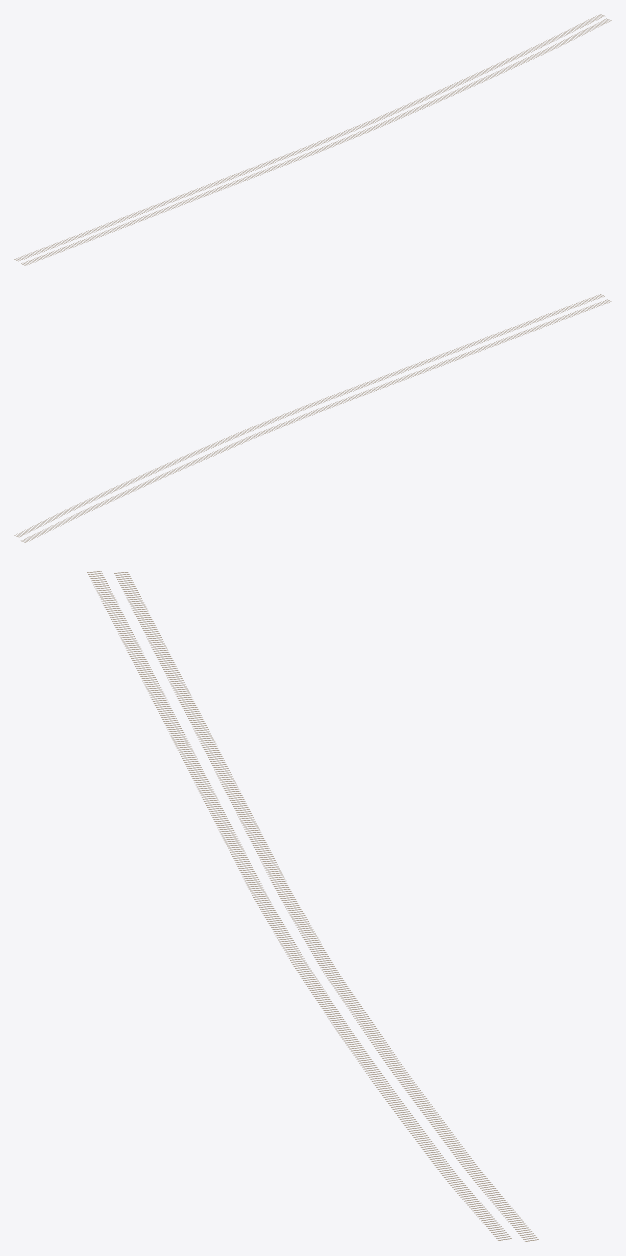
The model's file is c_1626_17835_rail_sleeper.glb.
The picture shows the model from 3 angles, top to bottom: view 1: azimuth 30°, elevation 25°; view 2: azimuth 210°, elevation 25°; view 3: azimuth 270°, elevation 25°; orthographic projection. The views are drawn at different scales.
Visible parts, largest first — view 1: geometry_0; view 2: geometry_0; view 3: geometry_0.
Boxes of the visible parts, x1,y1,x2,y2 form: geometry_0: (14, 14, 611, 265); geometry_0: (14, 294, 611, 542); geometry_0: (87, 571, 538, 1241).
Bounding box in the file's own units: 256 × 0.8552 × 72.62.
